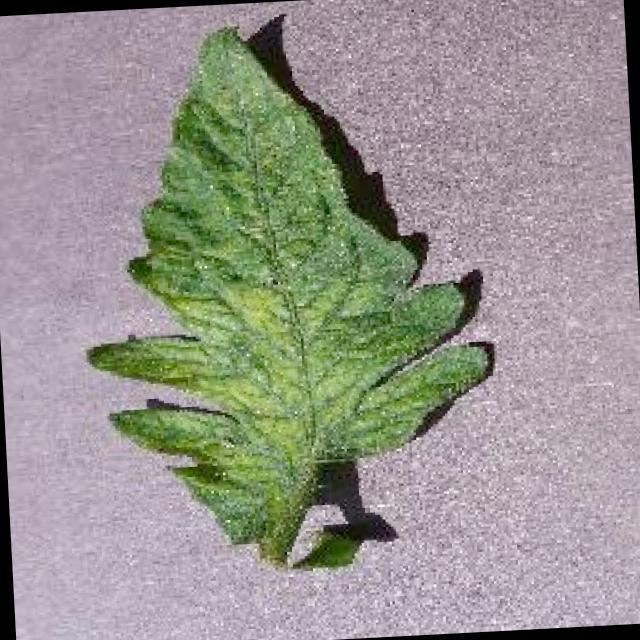Tomato mosaic virus leaf: (64, 8, 504, 556)
